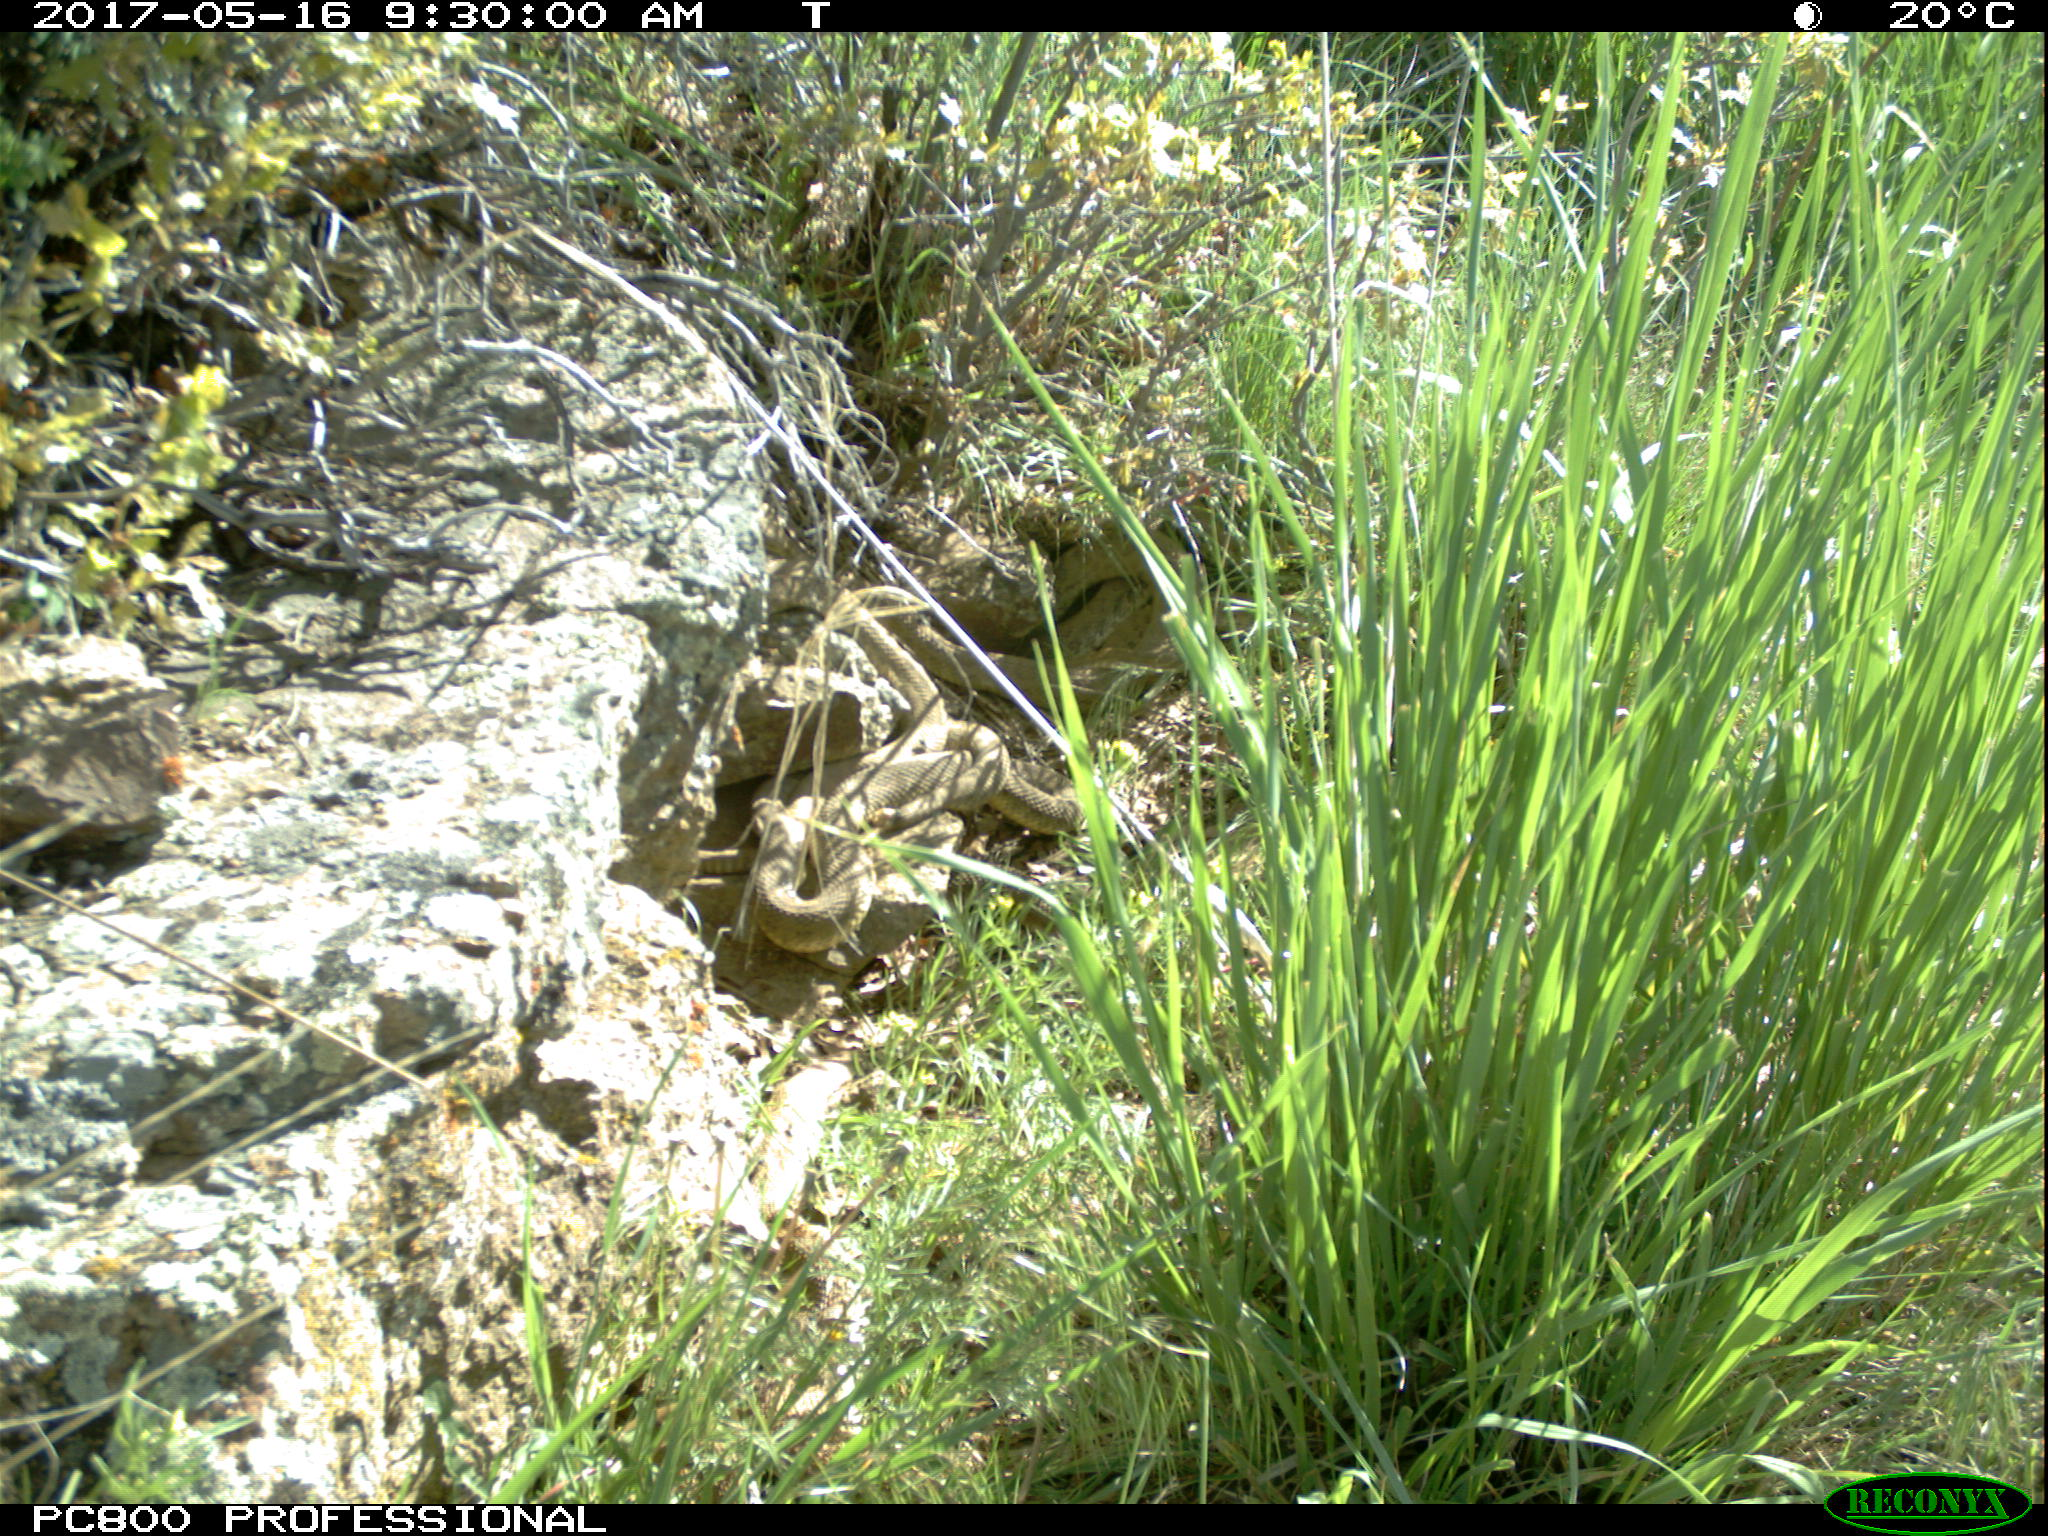snake: (848, 712, 1084, 839), (821, 591, 948, 812), (1053, 518, 1206, 670), (743, 787, 874, 952), (918, 620, 1084, 703)
